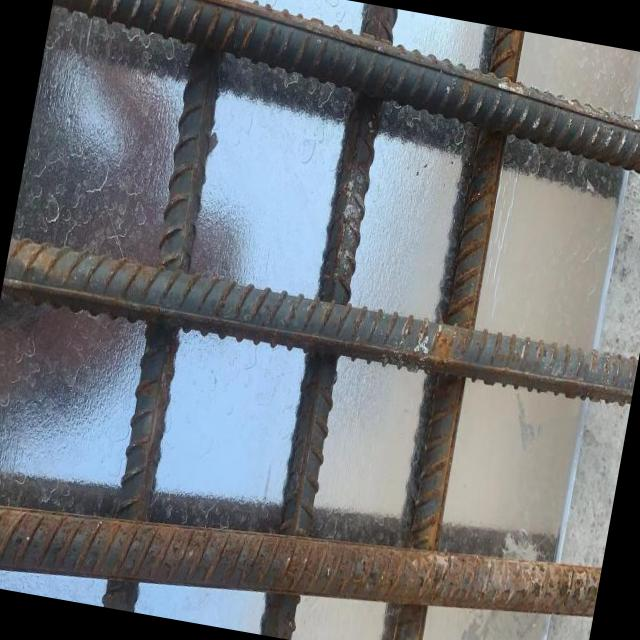ribbed bar: (0, 452, 602, 640), (0, 234, 640, 408), (39, 0, 640, 183), (90, 0, 248, 612), (256, 3, 404, 639), (381, 25, 529, 640)
